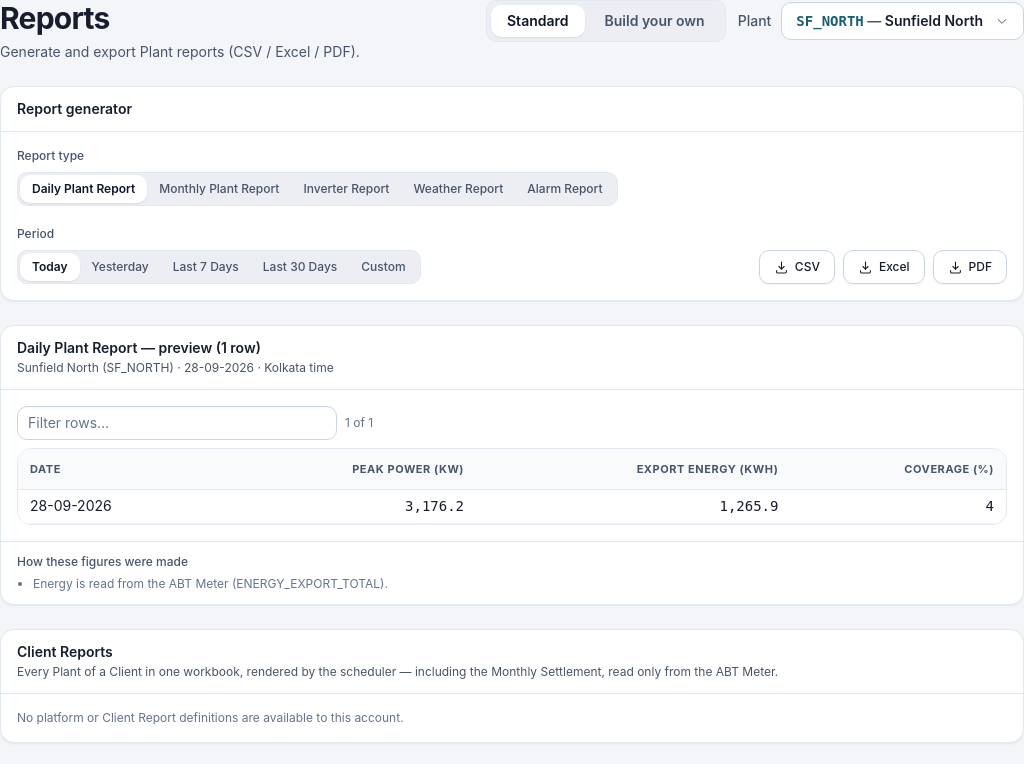
Test: Reports screen › prints the page when the server cannot render a PDF, and says so
expect the heading "Daily Plant Report — preview (1 row)" is shown: met, box [17,339,261,356]
What coordinates should you click on to do the following:
click the button "PDF"
I would click on:
 (970, 267)
Its box is [933,250,1007,284].
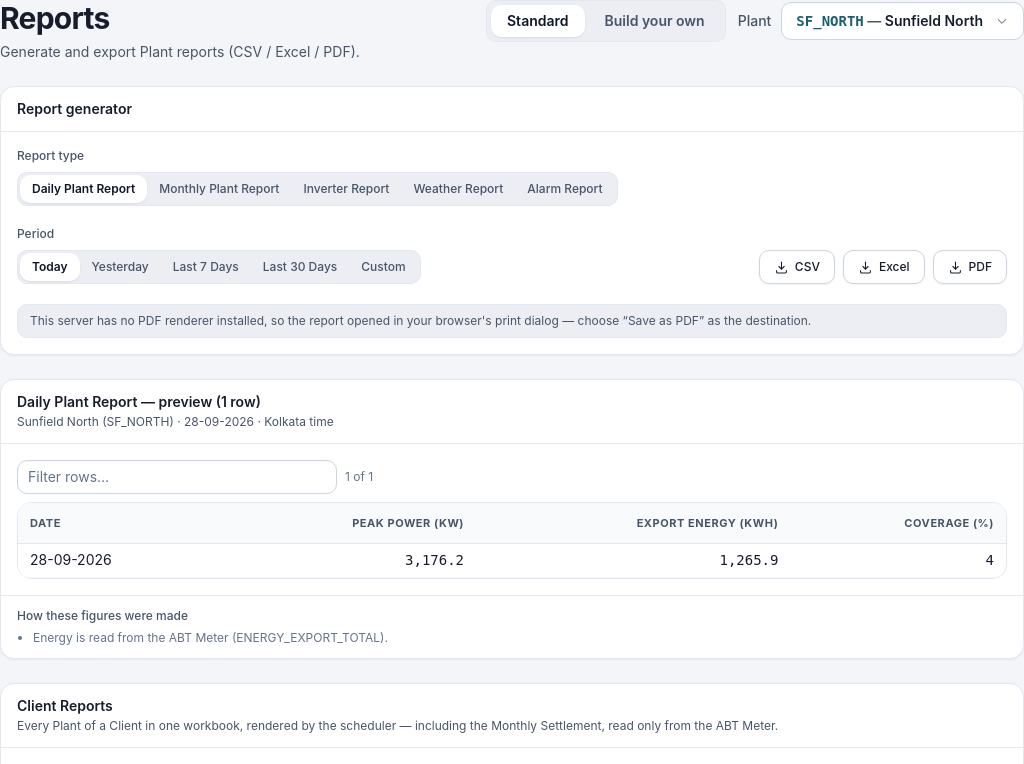
expect the text "print dialog" is shown: met, box [30,313,811,328]
